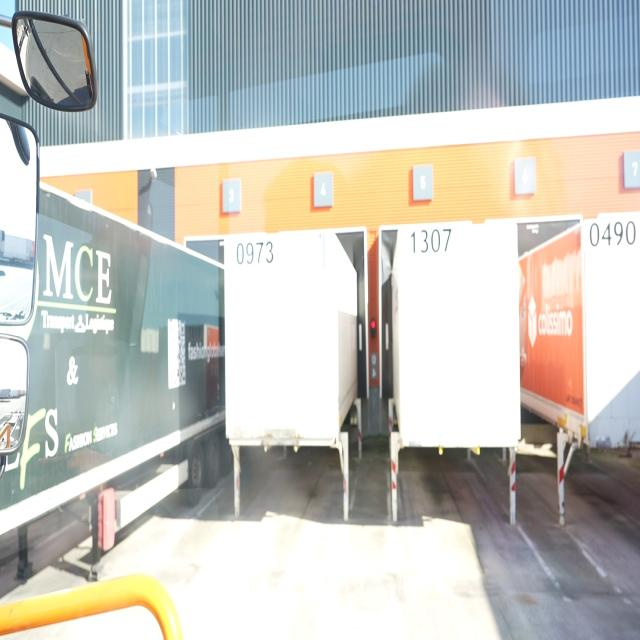Code: (586, 215, 640, 254), (234, 237, 278, 274), (407, 224, 456, 256)
